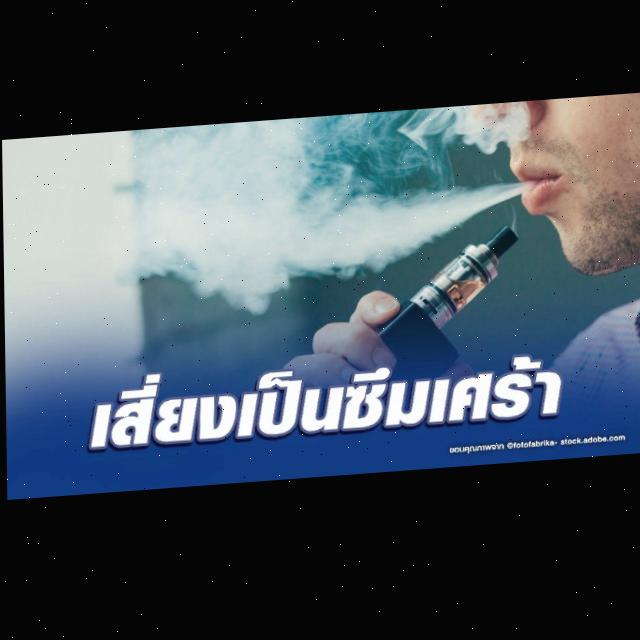vape: (370, 234, 520, 391)
